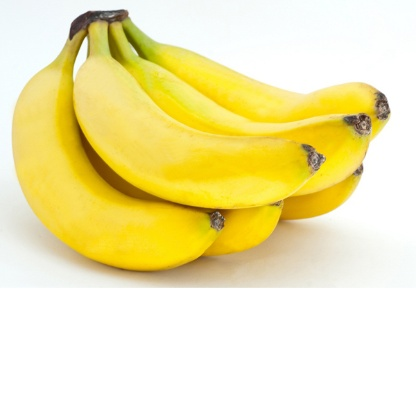chuoi: (13, 4, 399, 278)
